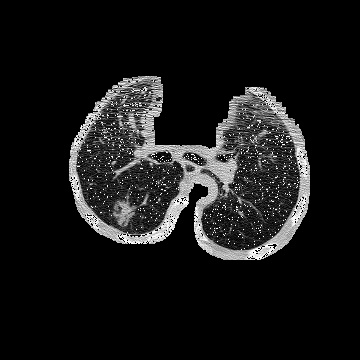PN: (113, 202, 137, 226)
